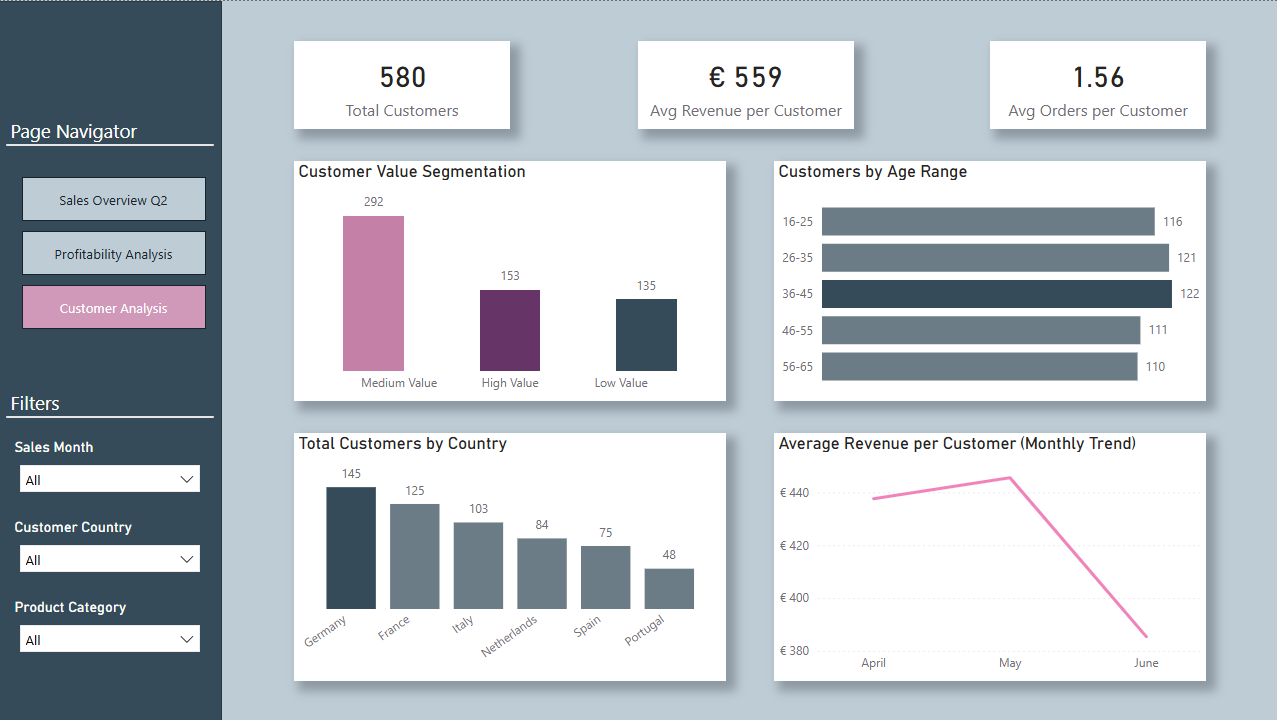

The dashboard page shown, as its layout file describes it:
{"tool":"powerbi","page":{"name":"Customer Analysis","canvas":[1280,720],"ordinal":2},"visuals":[{"type":"shape","box":[0,0,224,720],"z":0,"group":"g1"},{"type":"card","fields":{"Values":["sales.Total Customers"]},"box":[296,40,216,88],"z":0},{"type":"card","fields":{"Values":["sales.Avg Orders per Customer"]},"box":[992,40,216,88],"z":2000},{"type":"clusteredBarChart","title":"Customers by Age Range","fields":{"Category":["customers.age_range"],"Y":["sales.Total Customers"]},"box":[776,160,432,240],"z":3000},{"type":"clusteredColumnChart","title":"Total Customers by Country","fields":{"Category":["customers.country"],"Y":["sales.Total Customers"]},"box":[296,432,432,248],"z":4000},{"type":"lineChart","title":"Average Revenue per Customer (Monthly Trend)","fields":{"Category":["Calendar.Calendar Hierarchy.Year","Calendar.Calendar Hierarchy.Month"],"Y":["sales.Avg Revenue per Customer"]},"box":[776,432,432,248],"z":5000},{"type":"clusteredColumnChart","title":"Customer Value Segmentation","fields":{"Category":["customers.Customer Value Segment"],"Series":["customers.Customer Value Segment"],"Y":["customers.Customers by Segment"]},"box":[296,160,432,240],"z":6000},{"type":"group","id":"g1","title":"Group 2","box":[0,0,224,720],"z":7000},{"type":"card","fields":{"Values":["Calendar.Avg Revenue per Customer"]},"box":[640,40,216,88],"z":8000},{"type":"group","id":"g2","title":"Group 3","box":[12.1,437.9,200,224],"z":8001,"group":"g1"},{"type":"slicer","title":"Sales Month","fields":{"Values":["Calendar.Calendar Hierarchy.Month"]},"box":[12.1,437.9,200,64],"z":9000,"group":"g2"},{"type":"slicer","title":"Customer Country ","fields":{"Values":["customers.country"]},"box":[12.1,517.9,200,64],"z":10000,"group":"g2"},{"type":"slicer","title":"Product Category","fields":{"Values":["products.category"]},"box":[12.1,597.9,200,64],"z":11000,"group":"g2"},{"type":"pageNavigator","box":[24,176,184,152],"z":12000,"group":"g1"},{"type":"textbox","box":[8,112,200,40],"z":13000,"group":"g4"},{"type":"textbox","box":[8,384,200,40],"z":13000,"group":"g3"},{"type":"group","id":"g3","title":"Group 1","box":[8,384,208,48],"z":13000,"group":"g1"},{"type":"group","id":"g4","title":"Group 1","box":[8,112,208,48],"z":14000,"group":"g1"},{"type":"shape","box":[8,128,208,32],"z":14000,"group":"g4"},{"type":"shape","box":[8,400,208,32],"z":14000,"group":"g3"}]}

Visuals, with their boxes on the page's 1280x720 design canvas (x1, y1, x2, y2). These are canvas units, not pixel positions in the 1277x720 screenshot, which may show the page scaled, cropped or inside an application window:
shape: select_region(0, 0, 224, 720)
card - sales.Total Customers: select_region(296, 40, 512, 128)
card - sales.Avg Orders per Customer: select_region(992, 40, 1208, 128)
"Customers by Age Range" clusteredBarChart: select_region(776, 160, 1208, 400)
"Total Customers by Country" clusteredColumnChart: select_region(296, 432, 728, 680)
"Average Revenue per Customer (Monthly Trend)" lineChart: select_region(776, 432, 1208, 680)
"Customer Value Segmentation" clusteredColumnChart: select_region(296, 160, 728, 400)
"Group 2" group: select_region(0, 0, 224, 720)
card - Calendar.Avg Revenue per Customer: select_region(640, 40, 856, 128)
"Group 3" group: select_region(12, 438, 212, 662)
"Sales Month" slicer: select_region(12, 438, 212, 502)
"Customer Country " slicer: select_region(12, 518, 212, 582)
"Product Category" slicer: select_region(12, 598, 212, 662)
pageNavigator: select_region(24, 176, 208, 328)
textbox: select_region(8, 112, 208, 152)
textbox: select_region(8, 384, 208, 424)
"Group 1" group: select_region(8, 384, 216, 432)
"Group 1" group: select_region(8, 112, 216, 160)
shape: select_region(8, 128, 216, 160)
shape: select_region(8, 400, 216, 432)
